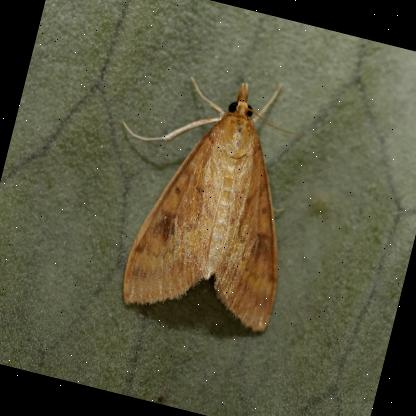Asian Corn Borer Moth: (74, 43, 330, 346)
